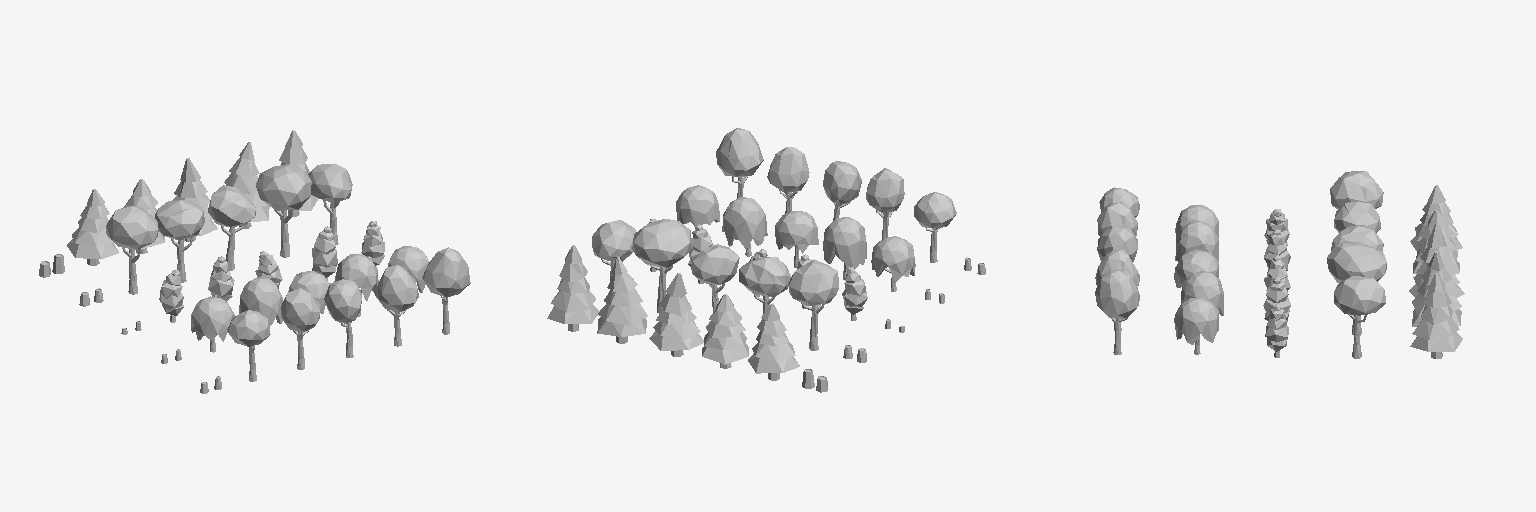
File: Trees.obj
3 views of the same model, side by side, from view 1: azimuth 30°, elevation 25°; view 2: azimuth 150°, elevation 25°; view 3: azimuth 270°, elevation 25° (orthographic).
Parts seen in each view (by area): view 1: Poplar_4_Spruce_Stump_1.004, Poplar_1_Spruce_Stump_1.001, Spruce_1, Birch_5_Spruce_Stump_1.012, Poplar_2_Spruce_Stump_1.002, Poplar_3_Spruce_Stump_1.003, Birch_4_Spruce_Stump_1.011, Poplar_5_Spruce_Stump_1.005, Birch_2_Spruce_Stump_1.009, Birch_3_Spruce_Stump_1.008, Mulberry_1, Spruce_4 (+13 smaller); view 2: Spruce_4, Poplar_4_Spruce_Stump_1.004, Spruce_3, Spruce_5, Spruce_2, Spruce_1, Poplar_1_Spruce_Stump_1.001, Birch_5_Spruce_Stump_1.012, Mulberry_2, Mulberry_4, Poplar_2_Spruce_Stump_1.002, Poplar_3_Spruce_Stump_1.003 (+9 smaller); view 3: Spruce_5, Poplar_5_Spruce_Stump_1.005, Birch_5_Spruce_Stump_1.012, Poplar_4_Spruce_Stump_1.004, Mulberry_5, Poplar_1_Spruce_Stump_1.001, Spruce_4, Mulberry_2, Spruce_3, Mulberry_4, Poplar_2_Spruce_Stump_1.002, Mulberry_3 (+11 smaller).
Boxes of the visible parts, box(x1,y1,x2,y2) form: Poplar_4_Spruce_Stump_1.004: box(256, 164, 311, 257); Poplar_1_Spruce_Stump_1.001: box(106, 206, 158, 294); Spruce_1: box(67, 189, 118, 265); Birch_5_Spruce_Stump_1.012: box(422, 247, 470, 334); Poplar_2_Spruce_Stump_1.002: box(155, 199, 204, 282); Poplar_3_Spruce_Stump_1.003: box(208, 185, 255, 270); Birch_4_Spruce_Stump_1.011: box(375, 265, 418, 346); Poplar_5_Spruce_Stump_1.005: box(308, 163, 352, 244); Birch_2_Spruce_Stump_1.009: box(281, 288, 319, 369); Birch_3_Spruce_Stump_1.008: box(324, 279, 361, 357); Mulberry_1: box(191, 296, 234, 352); Spruce_4: box(224, 142, 269, 228); Spruce_4: box(597, 256, 647, 343); Poplar_4_Spruce_Stump_1.004: box(632, 219, 692, 313); Spruce_3: box(649, 273, 703, 356); Spruce_5: box(547, 245, 599, 331); Spruce_2: box(702, 294, 748, 368); Spruce_1: box(748, 303, 799, 380); Poplar_1_Spruce_Stump_1.001: box(789, 259, 838, 350); Birch_5_Spruce_Stump_1.012: box(716, 128, 763, 198); Mulberry_2: box(823, 217, 866, 279); Mulberry_4: box(722, 197, 767, 256); Poplar_2_Spruce_Stump_1.002: box(739, 257, 790, 318); Poplar_3_Spruce_Stump_1.003: box(691, 244, 739, 312); Spruce_5: box(1410, 273, 1462, 358); Poplar_5_Spruce_Stump_1.005: box(1334, 276, 1385, 358); Birch_5_Spruce_Stump_1.012: box(1095, 269, 1139, 354); Poplar_4_Spruce_Stump_1.004: box(1327, 241, 1386, 334); Mulberry_5: box(1174, 297, 1218, 354); Poplar_1_Spruce_Stump_1.001: box(1330, 171, 1383, 208); Spruce_4: box(1412, 251, 1461, 326); Mulberry_2: box(1175, 221, 1218, 261); Spruce_3: box(1409, 223, 1464, 297); Mulberry_4: box(1181, 271, 1223, 315); Poplar_2_Spruce_Stump_1.002: box(1334, 201, 1380, 232); Mulberry_3: box(1174, 249, 1218, 287).
Size of the model in its own units: 40 by 12.25 by 46.41.